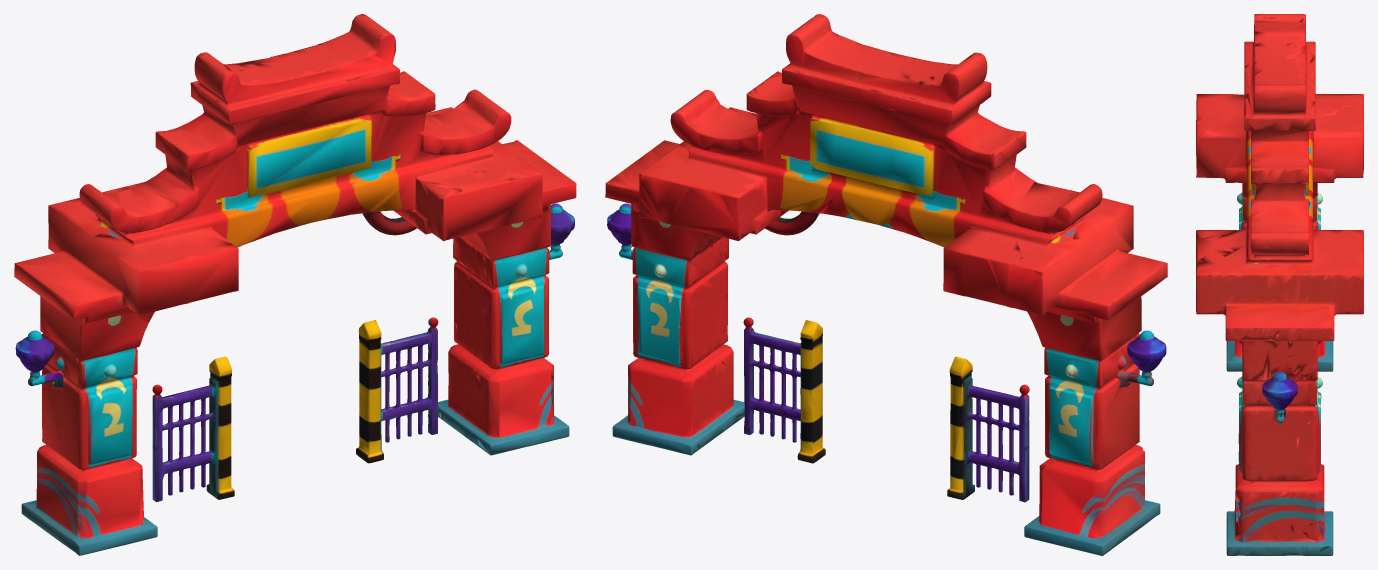
File: base-gate.glb
3 views of the same model, side by side, from view 1: azimuth 30°, elevation 25°; view 2: azimuth 150°, elevation 25°; view 3: azimuth 270°, elevation 25° (orthographic). The views are drawn at different scales.
Size of the model in its own units: 1.91 by 1.43 by 0.547.
1 material, 1 textured.
